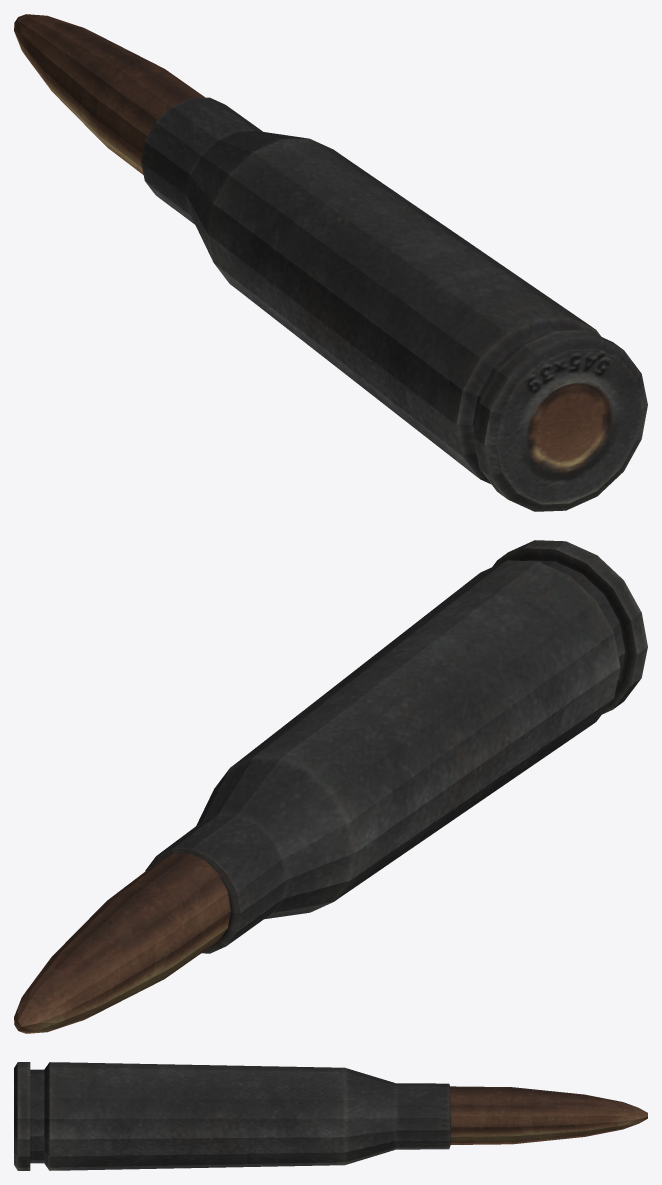
3 renders of one model, top to bottom at view 1: azimuth 30°, elevation 25°; view 2: azimuth 150°, elevation 25°; view 3: azimuth 270°, elevation 25°, orthographic. The views are drawn at different scales.
Visible parts, largest first — view 1: TW_56dff0bed2720bb0668b4567_PZ_Import; view 2: TW_56dff0bed2720bb0668b4567_PZ_Import; view 3: TW_56dff0bed2720bb0668b4567_PZ_Import.
Part boxes in pixels (x1=…): TW_56dff0bed2720bb0668b4567_PZ_Import: x1=14, y1=14, x2=647, y2=511; TW_56dff0bed2720bb0668b4567_PZ_Import: x1=14, y1=540, x2=647, y2=1033; TW_56dff0bed2720bb0668b4567_PZ_Import: x1=14, y1=1062, x2=647, y2=1170.
Size of the model in its own units: 0.00561 by 0.0327 by 0.00561.
Materials: 1 (1 with a texture image).
